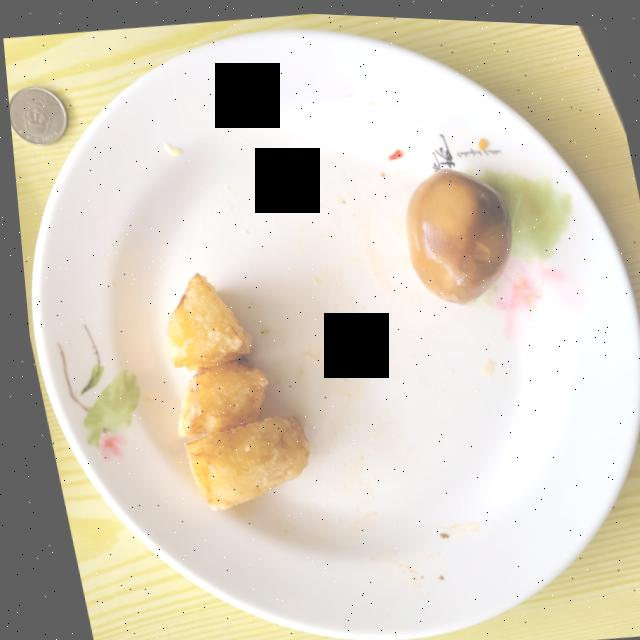coin: (7, 85, 65, 144)
fried potato: (160, 270, 301, 507)
soy egg: (401, 163, 508, 300)
